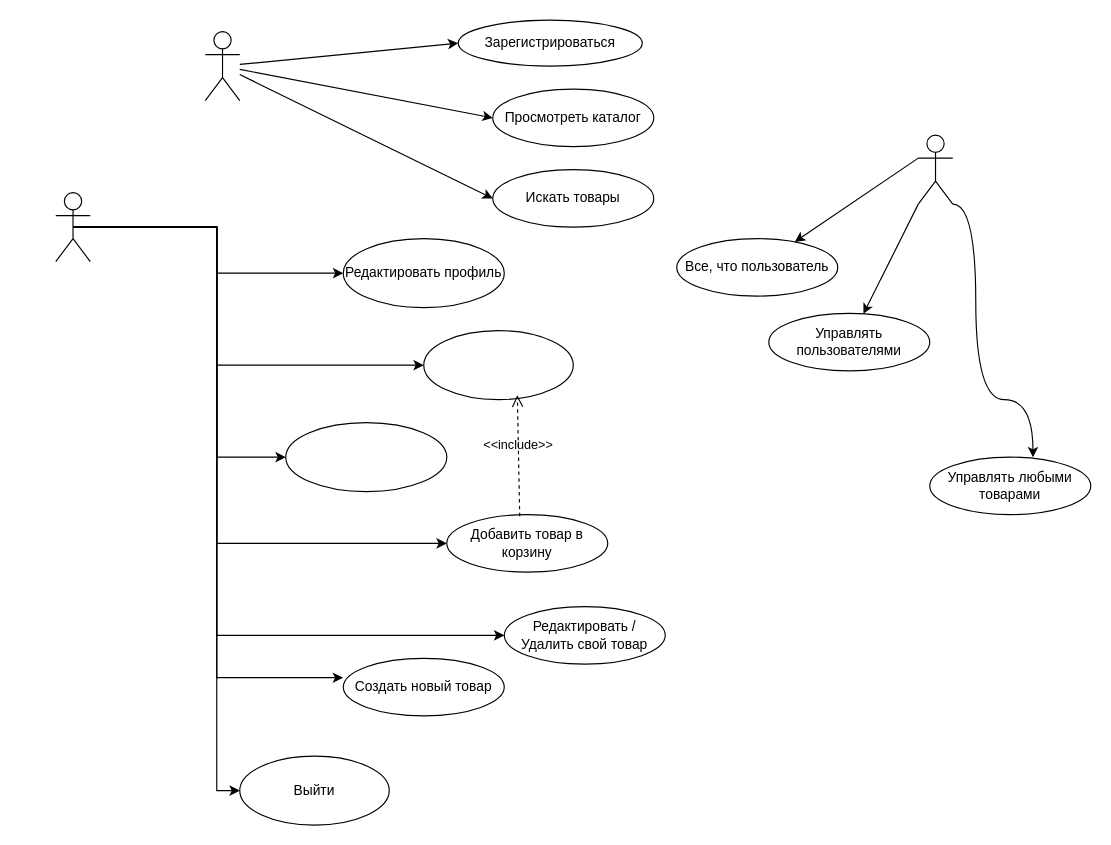
The diagram is 1111 pixels wide and 845 high, and some of its shapes have lost their labels. Each missing label, with the centre of its shape:
"Авторизованный пользователь" belongs at pixel 72 226.
"Администратор" belongs at pixel 935 169.
"Войти" belongs at pixel 366 456.
"Гость" belongs at pixel 222 65.
"Оформить заказ" belongs at pixel 498 364.
